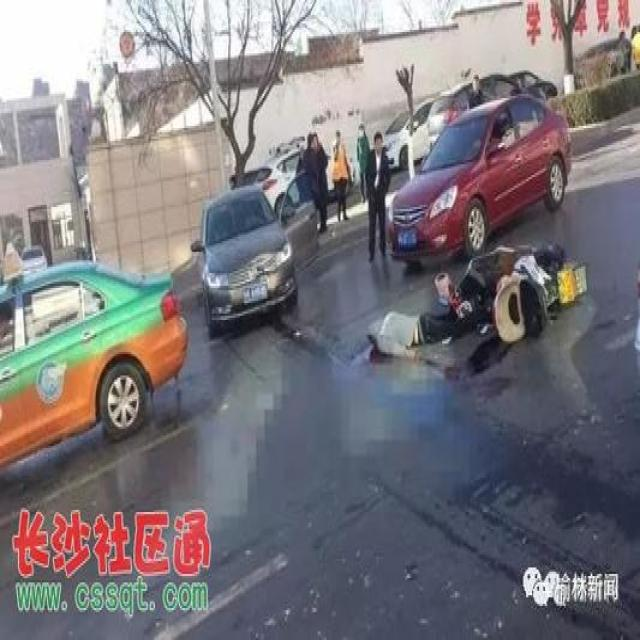fall: (360, 299, 491, 358)
